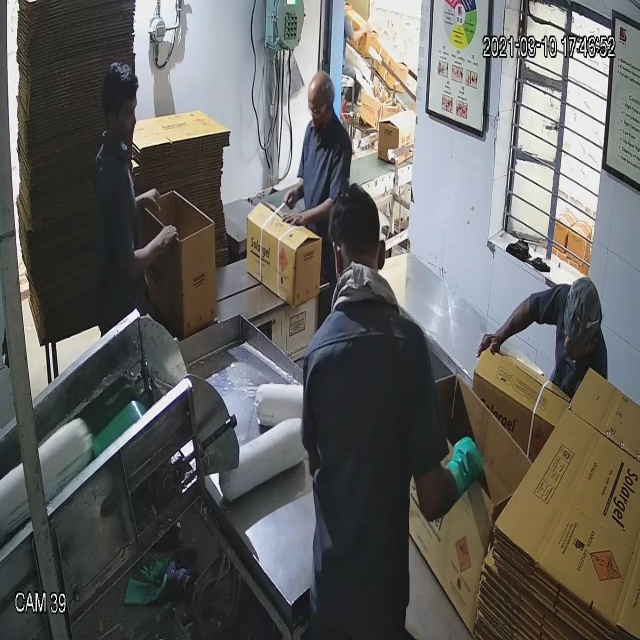Guantes: (436, 420, 490, 508)
Sin_guantes: (466, 282, 542, 374), (117, 220, 181, 274), (282, 196, 339, 244), (280, 174, 317, 235)
